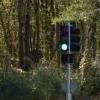Traffic light: (51, 13, 98, 76)
